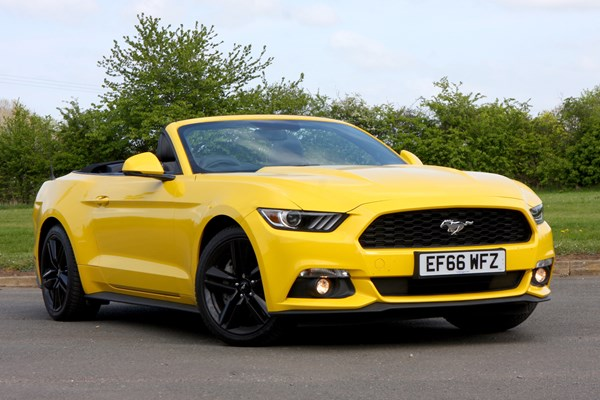car: (32, 114, 554, 346)
